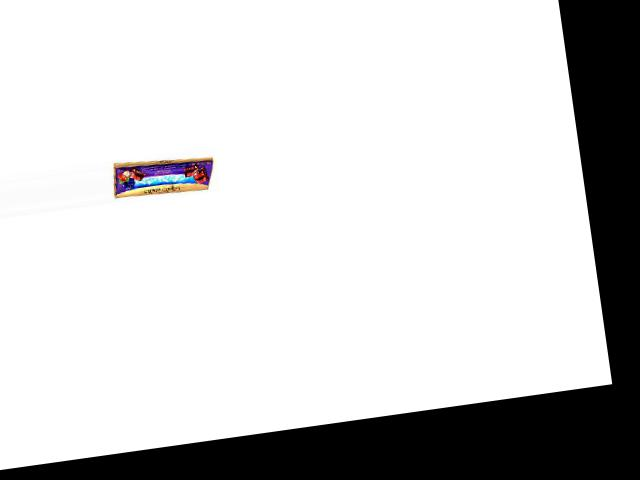chocolate: (109, 148, 221, 198)
